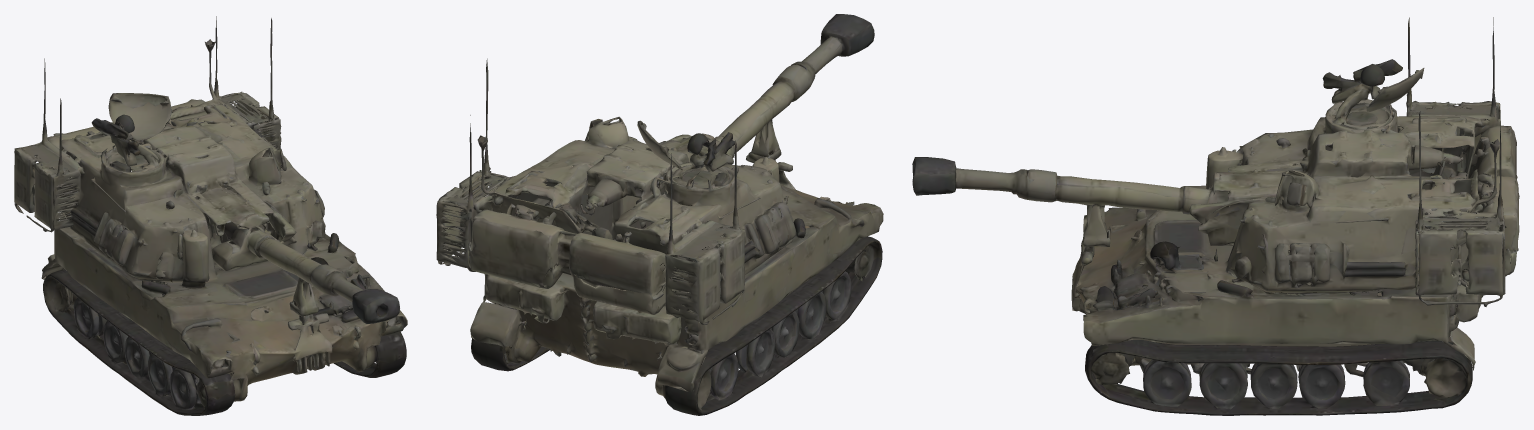
File: m109-doher-raw.glb
3 views of the same model, side by side, from view 1: azimuth 30°, elevation 25°; view 2: azimuth 150°, elevation 25°; view 3: azimuth 270°, elevation 25° (orthographic). The views are drawn at different scales.
Visible parts, largest first — view 1: world; view 2: world; view 3: world.
Part boxes in pixels (x1,y1,x2,y2): world: [14, 16, 407, 415]; world: [436, 14, 883, 415]; world: [912, 17, 1519, 415].
Size of the model in its own units: 0.5159 by 0.5639 by 0.9964.
1 material, 1 textured.
